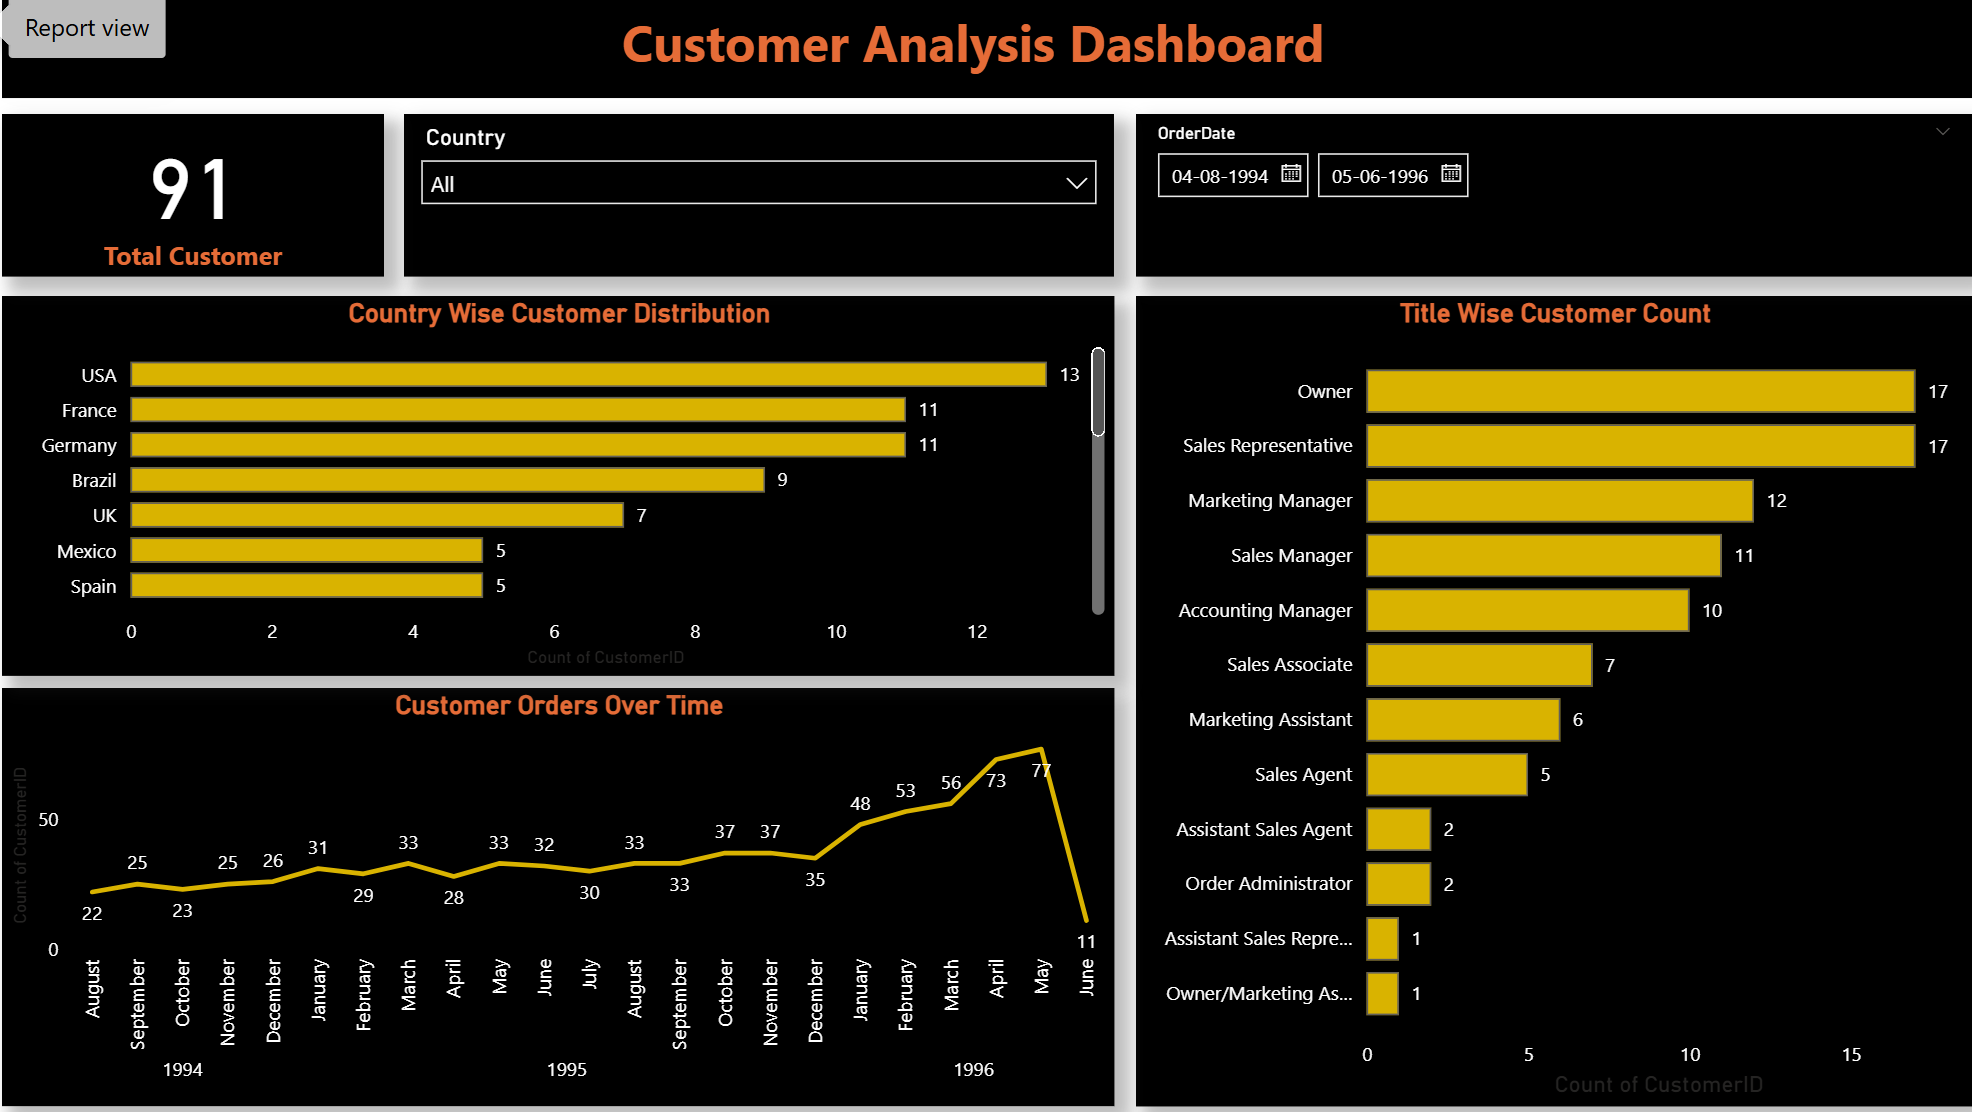

The page's visual inventory and layout, read from the dashboard file:
{"tool":"powerbi","page":{"name":"Customer","canvas":[1280,720],"ordinal":0},"visuals":[{"type":"barChart","title":"Title Wise Customer Count","fields":{"Y":["CountNonNull(customers.CustomerID)"],"Category":["customers.ContactTitle"]},"box":[734.3,197.6,532.9,516.3],"z":0},{"type":"lineChart","title":"Customer Orders Over Time","fields":{"Category":["orders.OrderDate.Variation.Date Hierarchy.Year","orders.OrderDate.Variation.Date Hierarchy.Month"],"Y":["CountNonNull(orders.CustomerID)"]},"box":[11.5,447.5,708.8,266.5],"z":1000},{"type":"barChart","title":"Country Wise Customer Distribution","fields":{"Category":["customers.Country"],"Y":["CountNonNull(customers.CustomerID)"]},"box":[11.5,197.6,708.8,242.2],"z":2000},{"type":"slicer","fields":{"Values":["orders.OrderDate"]},"box":[734.3,81.6,532.9,103.3],"z":3000},{"type":"slicer","fields":{"Values":["customers.Country"]},"box":[267.7,81.6,452.6,103.3],"z":4000},{"type":"card","fields":{"Values":["customers.Total Customer"]},"box":[11.5,81.6,243.5,103.3],"z":5000},{"type":"textbox","box":[11.5,8.9,1255.8,62.5],"z":6000}]}

Visuals, with their boxes in screenshot pixels (x1, y1, x2, y2):
"Title Wise Customer Count" barChart: {"x1": 1131, "y1": 291, "x2": 1970, "y2": 1104}
"Customer Orders Over Time" lineChart: {"x1": 0, "y1": 684, "x2": 1109, "y2": 1104}
"Country Wise Customer Distribution" barChart: {"x1": 0, "y1": 291, "x2": 1109, "y2": 672}
slicer - orders.OrderDate: {"x1": 1131, "y1": 108, "x2": 1970, "y2": 271}
slicer - customers.Country: {"x1": 396, "y1": 108, "x2": 1109, "y2": 271}
card - customers.Total Customer: {"x1": 0, "y1": 108, "x2": 376, "y2": 271}
textbox: {"x1": 0, "y1": 0, "x2": 1971, "y2": 92}
